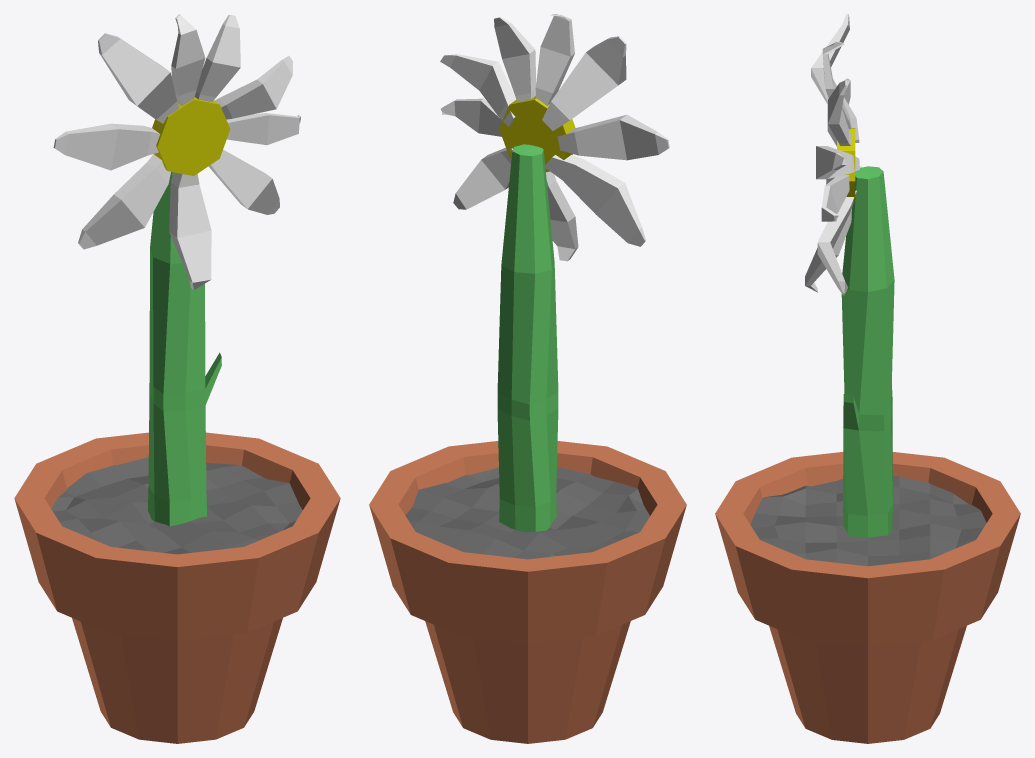
File: Flower All.fbx
3 views of the same model, side by side, from view 1: azimuth 30°, elevation 25°; view 2: azimuth 150°, elevation 25°; view 3: azimuth 270°, elevation 25° (orthographic). The views are drawn at different scales.
Parts seen in each view (by area): view 1: Pot, Flower Head, Flower stem, Soil; view 2: Pot, Flower Head, Flower stem, Soil; view 3: Pot, Flower stem, Soil, Flower Head.
Boxes of the visible parts, bbox=[...] form: Pot: bbox=[14, 432, 340, 743]; Flower Head: bbox=[53, 14, 300, 289]; Flower stem: bbox=[147, 172, 221, 526]; Soil: bbox=[51, 457, 302, 554]; Pot: bbox=[369, 441, 686, 743]; Flower Head: bbox=[440, 14, 669, 261]; Flower stem: bbox=[497, 144, 558, 532]; Soil: bbox=[405, 467, 649, 559]; Pot: bbox=[715, 452, 1020, 743]; Flower stem: bbox=[841, 166, 894, 537]; Soil: bbox=[750, 476, 986, 566]; Flower Head: bbox=[805, 14, 861, 295].
Size of the model in its own units: 18.21 by 43.67 by 18.21.
